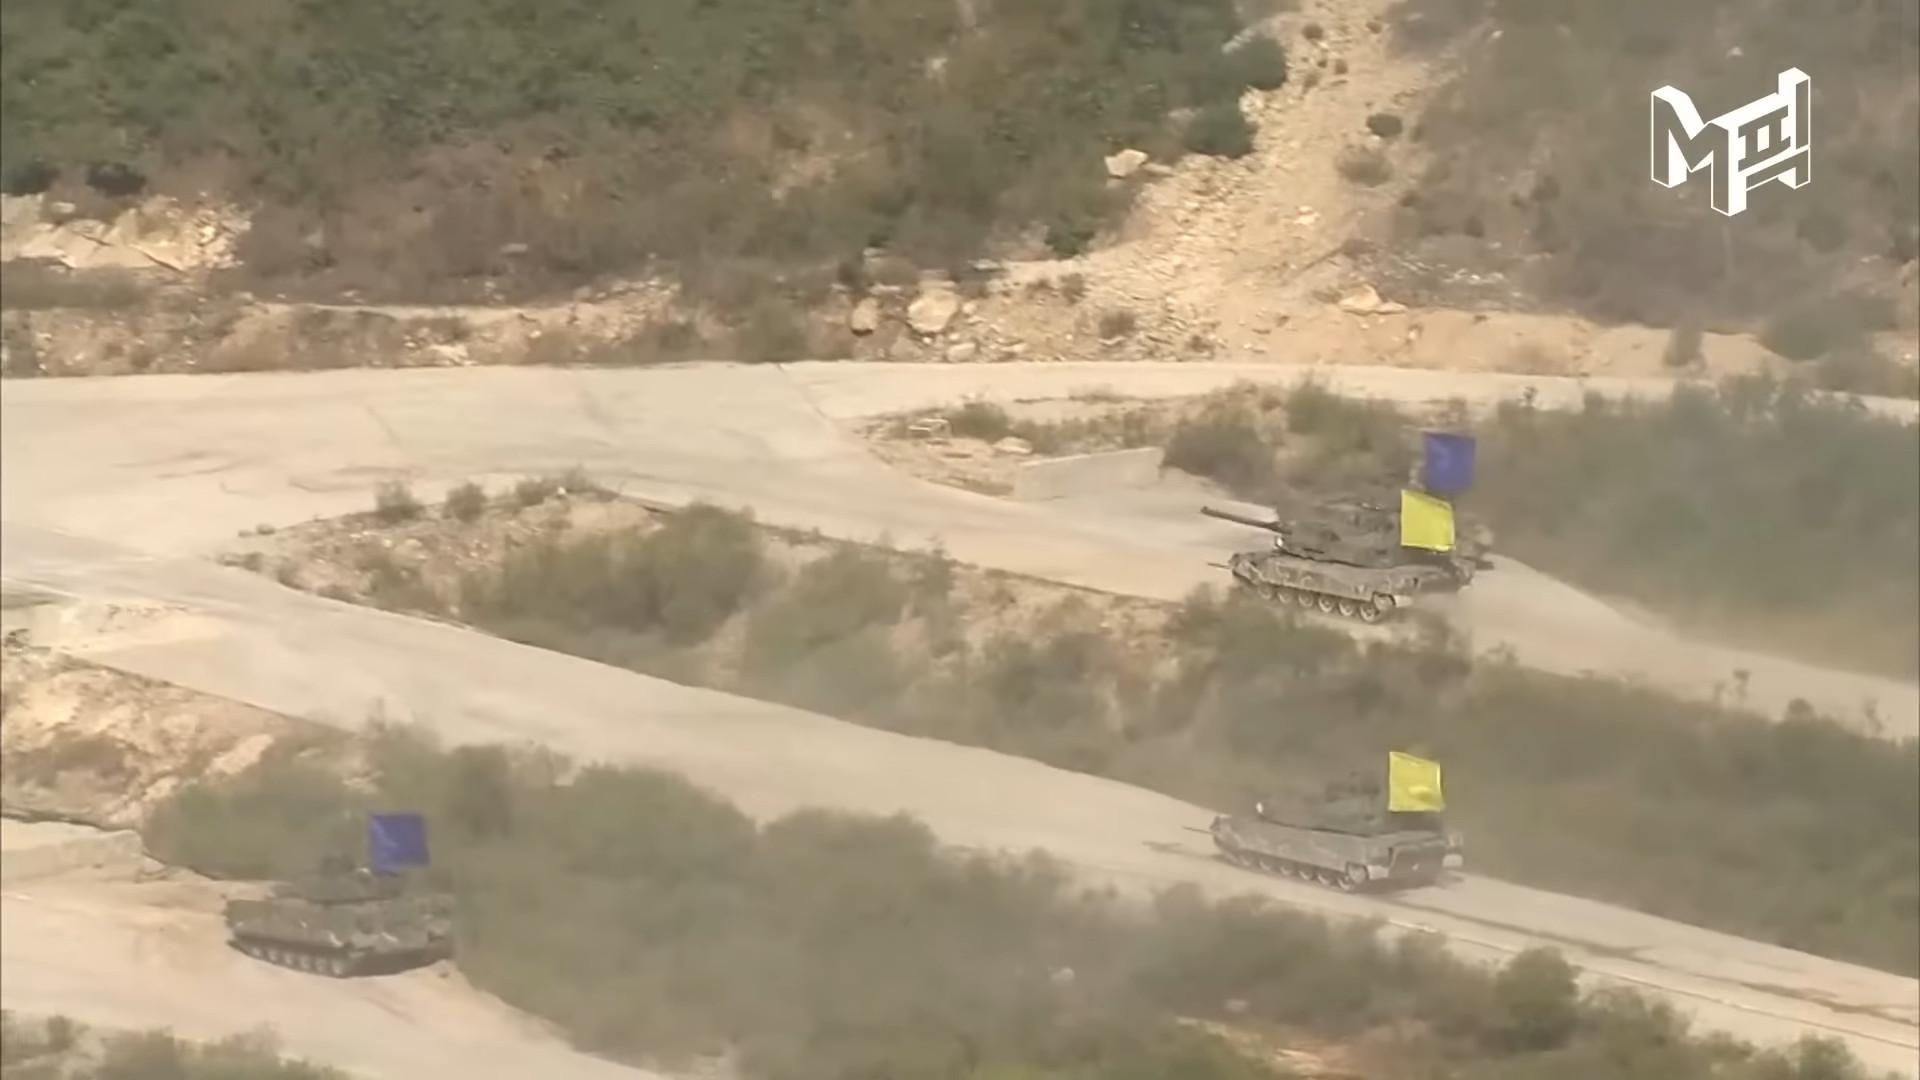tank: (1201, 495, 1477, 625), (1209, 770, 1464, 894), (227, 852, 454, 977)
